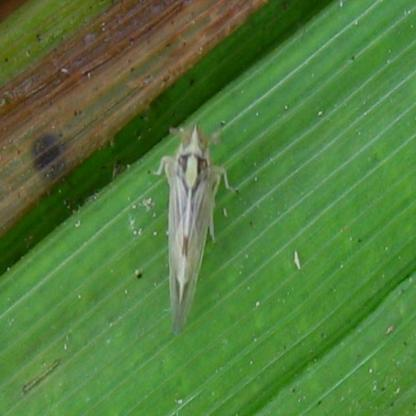brown-planthopper: (156, 124, 222, 334)
